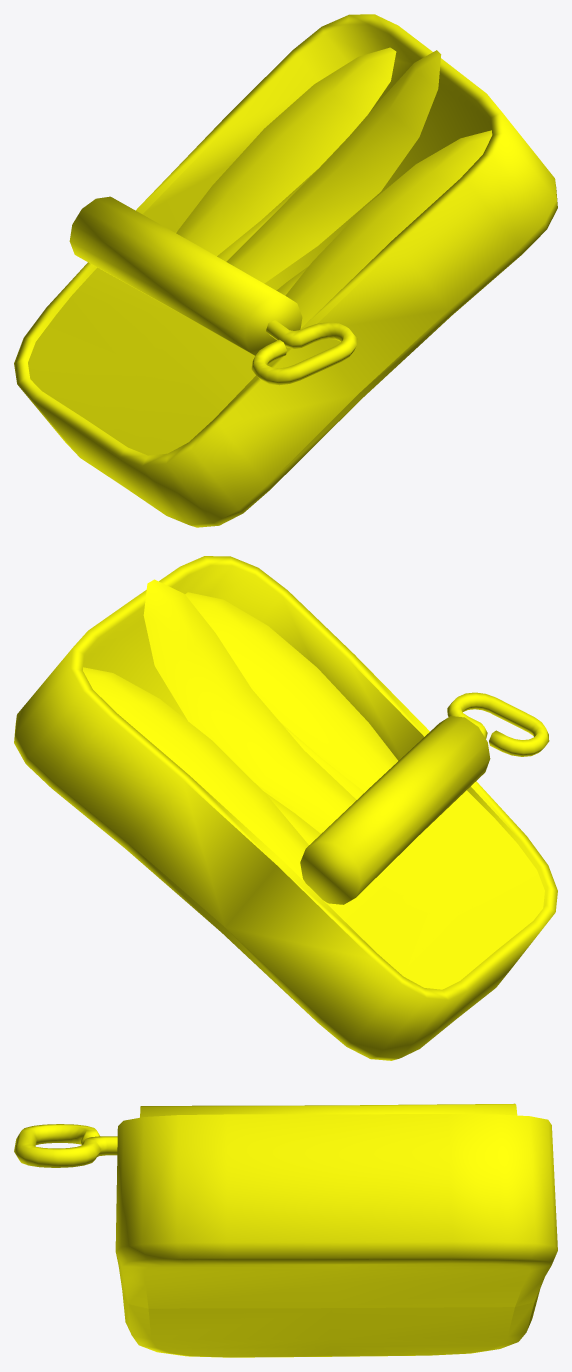
The model's file is Sardines.glb.
The picture shows the model from 3 angles, top to bottom: view 1: azimuth 30°, elevation 25°; view 2: azimuth 150°, elevation 25°; view 3: azimuth 270°, elevation 25°; orthographic projection. The views are drawn at different scales.
Parts seen in each view (by area): view 1: Sardines; view 2: Sardines; view 3: Sardines.
Part boxes in pixels (x1,y1,x2,y2): Sardines: (14, 14, 557, 527); Sardines: (14, 556, 557, 1060); Sardines: (14, 1103, 557, 1357).
Bounding box in the file's own units: 0.3487 × 0.2844 × 0.3127.
1 material, 1 textured.
